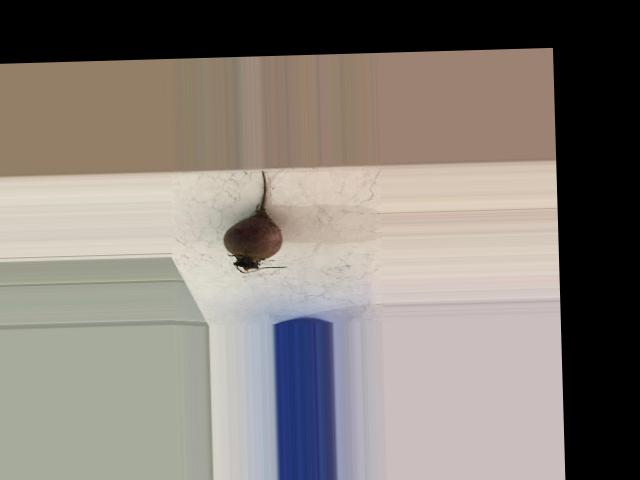beet: (222, 169, 288, 273)
